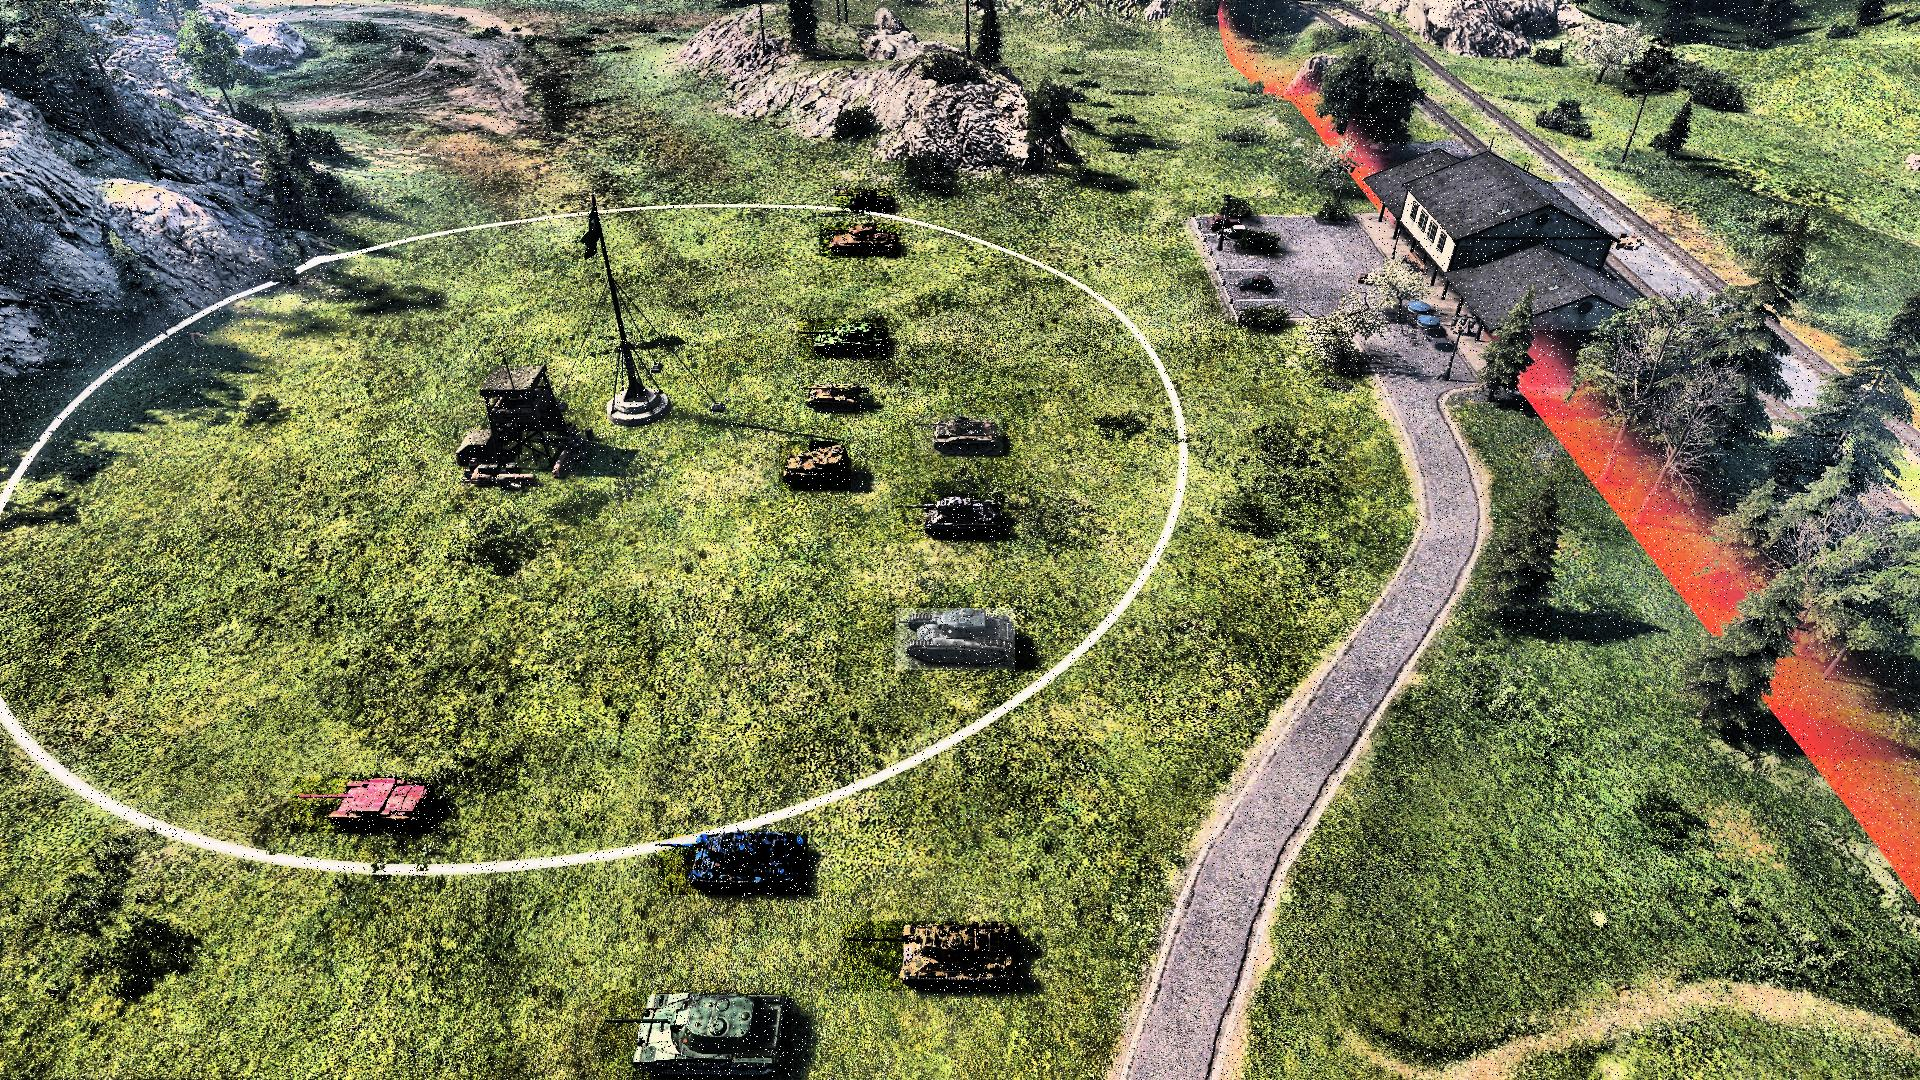military-vehicle: (601, 990, 791, 1080), (843, 922, 1021, 992), (658, 833, 808, 895), (291, 777, 433, 833), (895, 608, 1015, 670), (897, 493, 1006, 543), (798, 318, 889, 360), (779, 442, 852, 492), (915, 415, 1004, 455), (795, 380, 876, 417), (820, 223, 902, 258), (835, 189, 895, 214)
